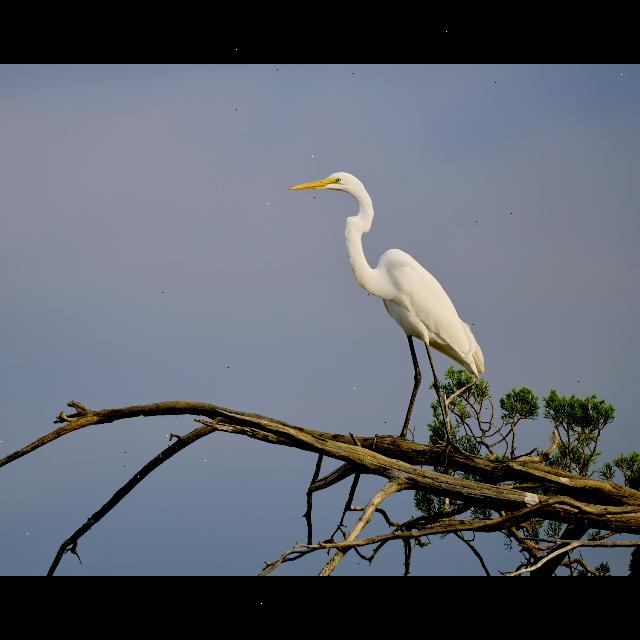egret: (286, 169, 504, 459)
